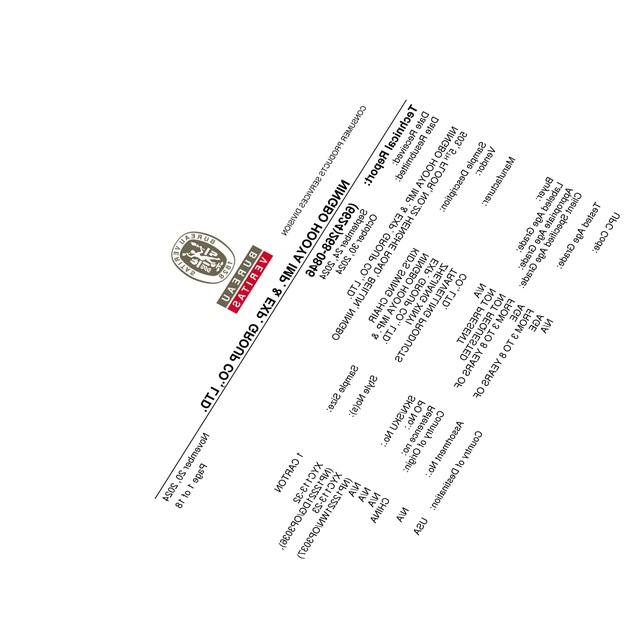bureau_veritas: (169, 227, 275, 315)
